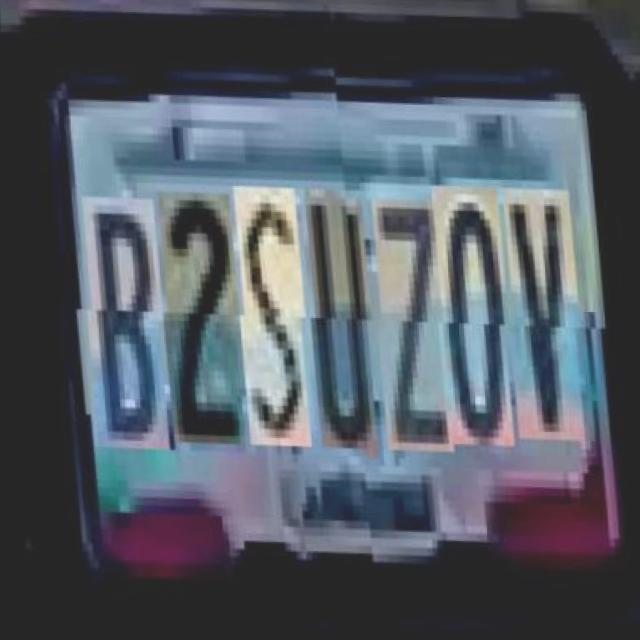2: (153, 196, 243, 452)
b: (78, 202, 166, 458)
o: (427, 180, 511, 444)
s: (228, 191, 308, 455)
u: (301, 194, 374, 457)
v: (498, 183, 581, 438)
z: (368, 195, 451, 449)
